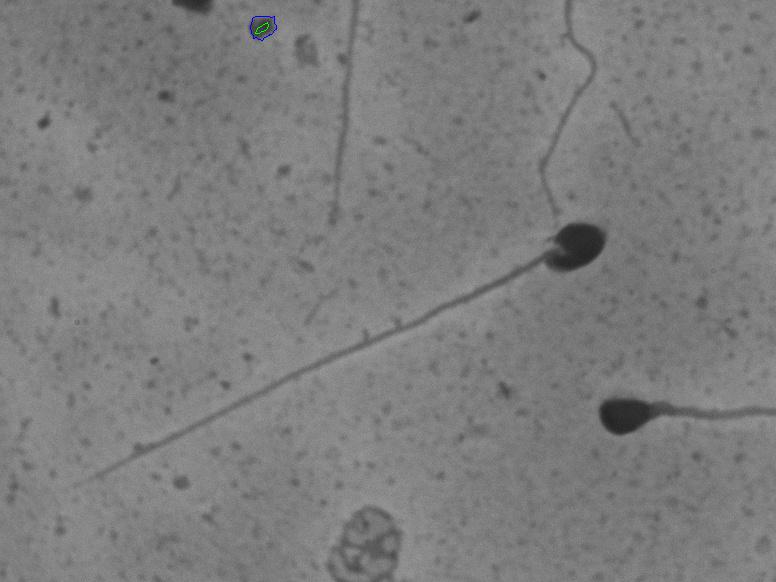Abnormal: (77, 192, 616, 378), (580, 355, 758, 462)
